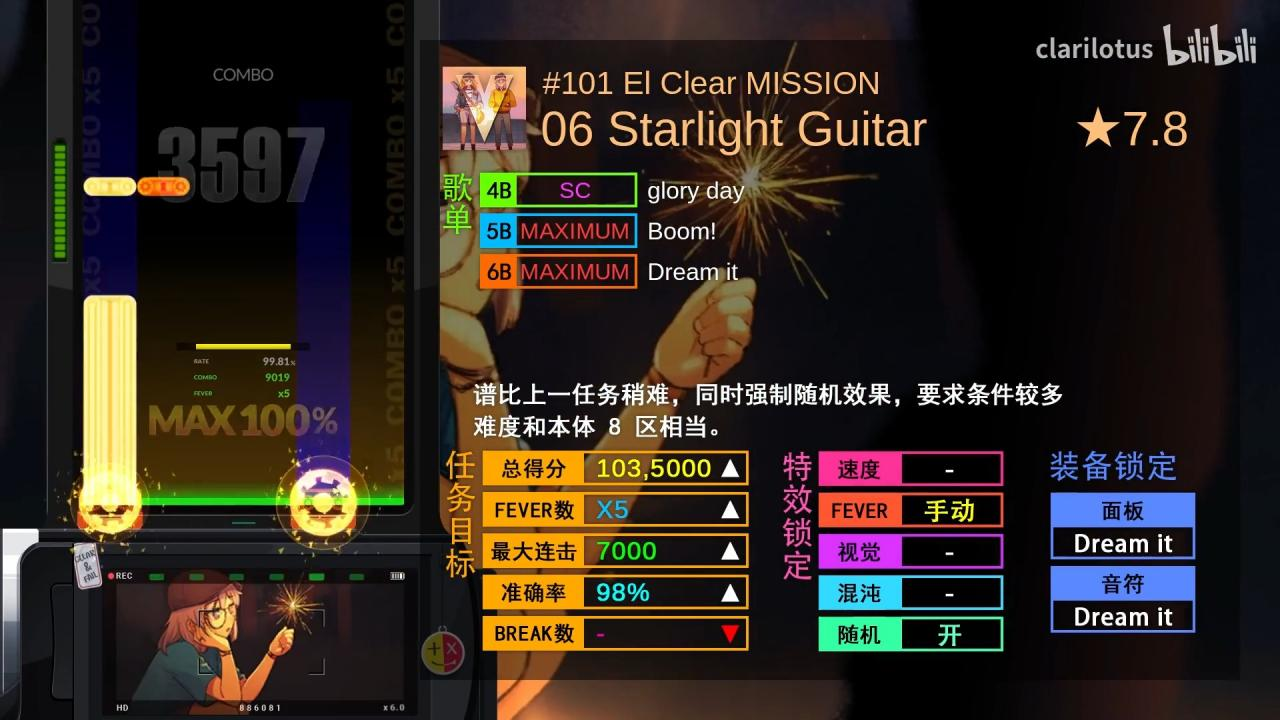hold-end: (84, 296, 137, 312)
note: (138, 176, 190, 197), (84, 177, 137, 196)
